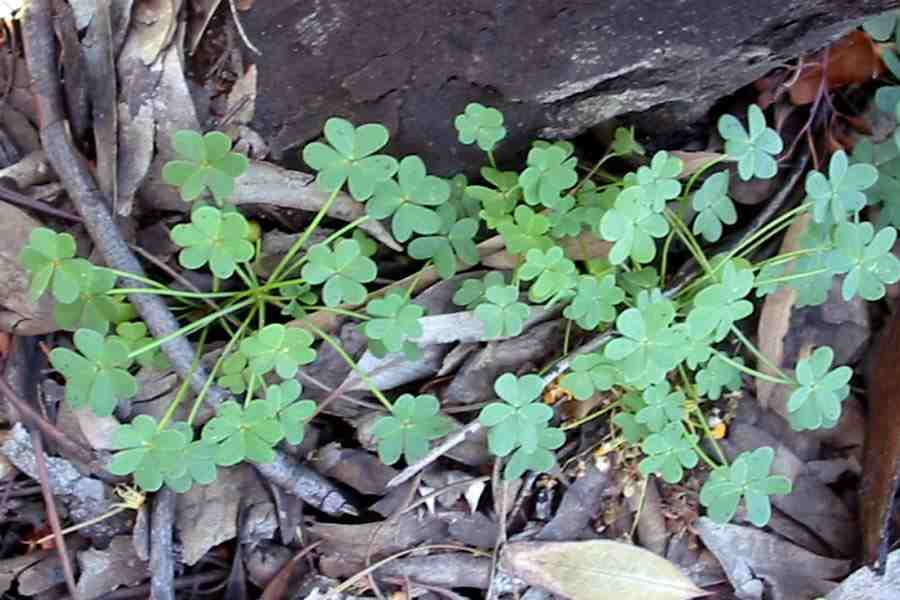oxalis: (134, 117, 862, 521)
